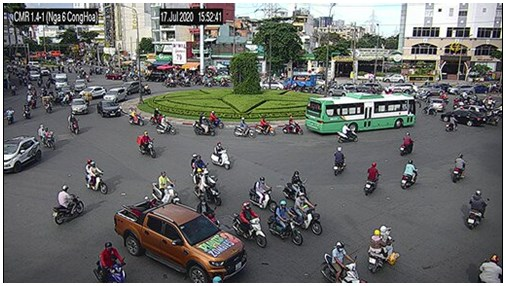xe_ban_tai: (113, 199, 247, 284)
xe_hoi: (3, 134, 42, 174), (443, 109, 482, 126), (97, 100, 121, 117), (104, 88, 127, 102), (446, 84, 475, 94), (418, 83, 442, 95), (79, 86, 105, 97), (70, 98, 87, 114), (121, 81, 140, 95), (386, 84, 414, 93), (328, 85, 354, 94), (464, 104, 485, 115), (262, 81, 284, 91), (361, 81, 382, 91), (73, 79, 86, 91), (30, 70, 40, 81), (358, 86, 373, 93)
xe_khach: (54, 73, 67, 91)
xe_may: (325, 238, 363, 283), (268, 200, 303, 247), (233, 201, 266, 247), (369, 225, 398, 272), (290, 193, 321, 236), (95, 242, 127, 283), (53, 185, 85, 226), (248, 176, 277, 212), (195, 171, 223, 206), (84, 158, 109, 195), (151, 171, 178, 204), (468, 189, 487, 230), (284, 171, 306, 204), (479, 254, 502, 283), (199, 198, 219, 229), (210, 140, 230, 170), (137, 130, 156, 160), (191, 152, 209, 183), (365, 161, 380, 198), (401, 160, 419, 189), (451, 153, 467, 183), (234, 117, 255, 139), (254, 115, 275, 137), (337, 123, 359, 144), (157, 114, 177, 135), (398, 132, 415, 156), (332, 146, 346, 175), (283, 116, 303, 136), (206, 110, 225, 130), (195, 115, 212, 136), (42, 126, 55, 151), (128, 106, 144, 126), (150, 107, 166, 126), (421, 101, 438, 118), (68, 112, 79, 136), (446, 113, 458, 132), (41, 96, 53, 114), (5, 106, 15, 125), (140, 82, 152, 95), (22, 103, 31, 118), (486, 96, 495, 109), (452, 97, 459, 109)
